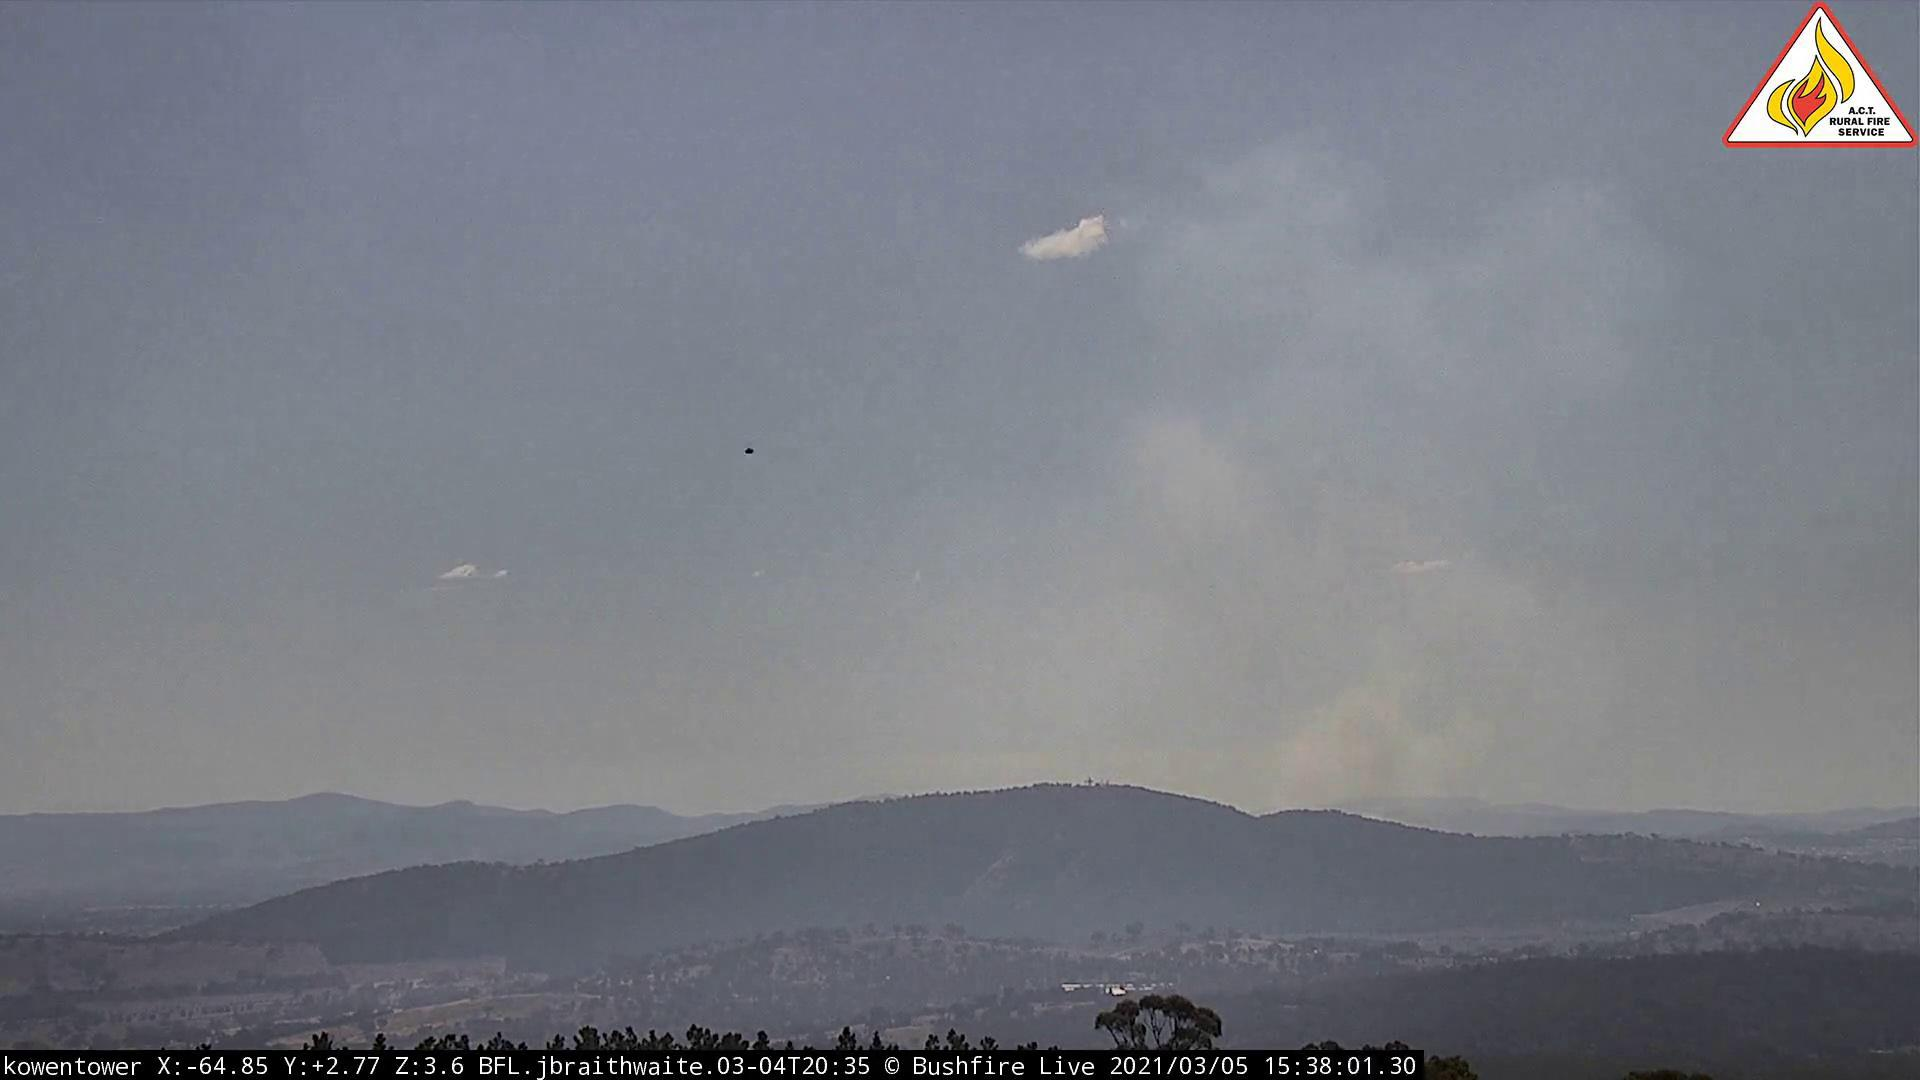Smoke: (936, 142, 1695, 868)
